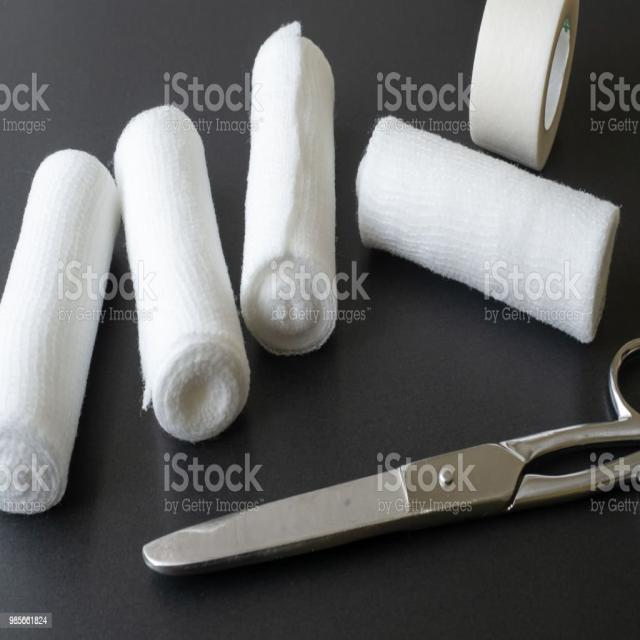B3: (340, 105, 628, 365), (100, 93, 256, 455), (2, 135, 128, 524), (232, 18, 356, 357)
